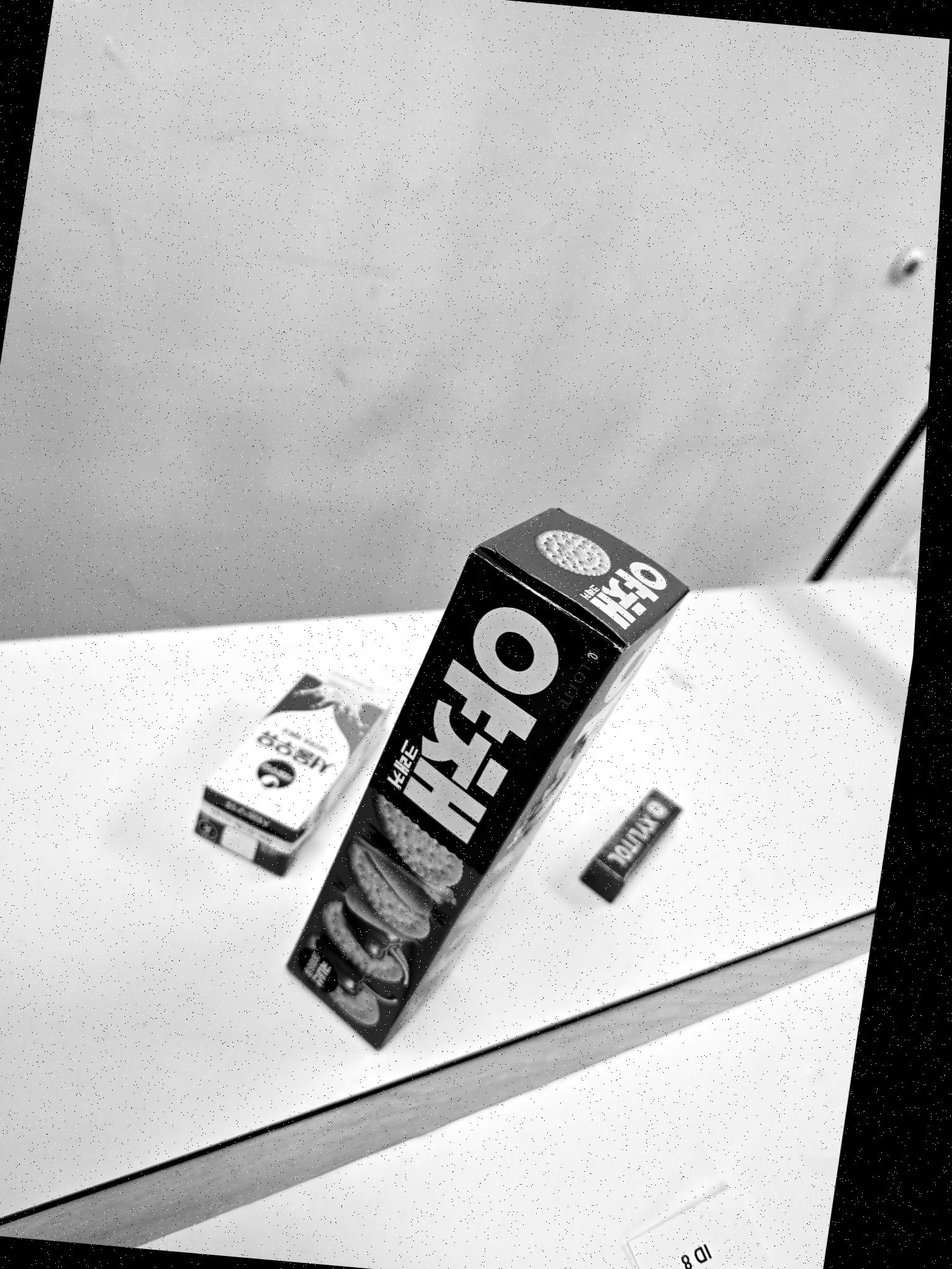cracker_vege: (288, 509, 687, 1048)
gum_green: (581, 790, 681, 902)
milk_green: (195, 670, 392, 874)
